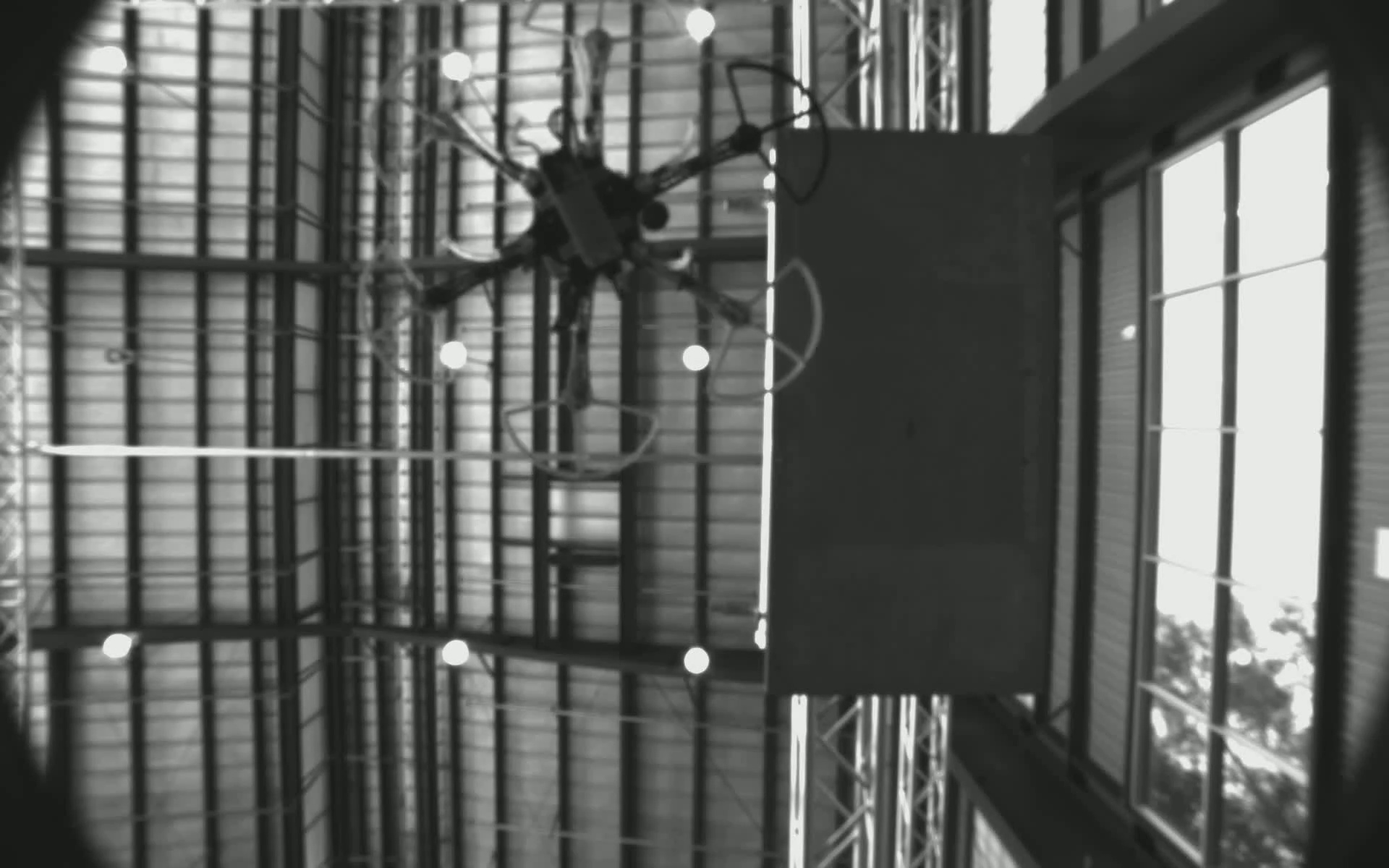drone: (356, 0, 839, 493)
